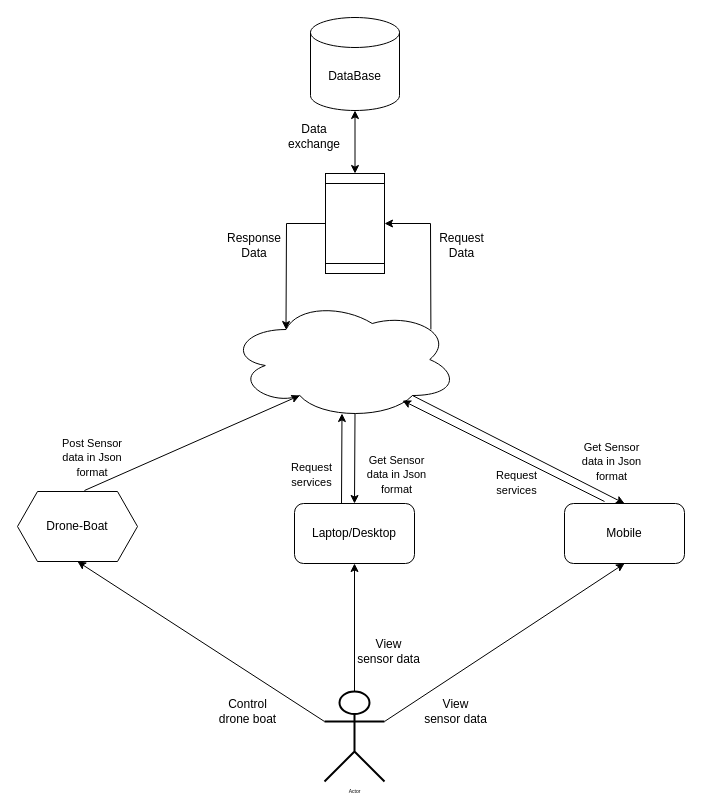
Some shapes in this 702 by 812 pixel diagram are drawn without their labels. Here are the shapes that lost their labels. From the top down, the centre of each, then its label:
(354,223): Server
(343,359): RSDB API
